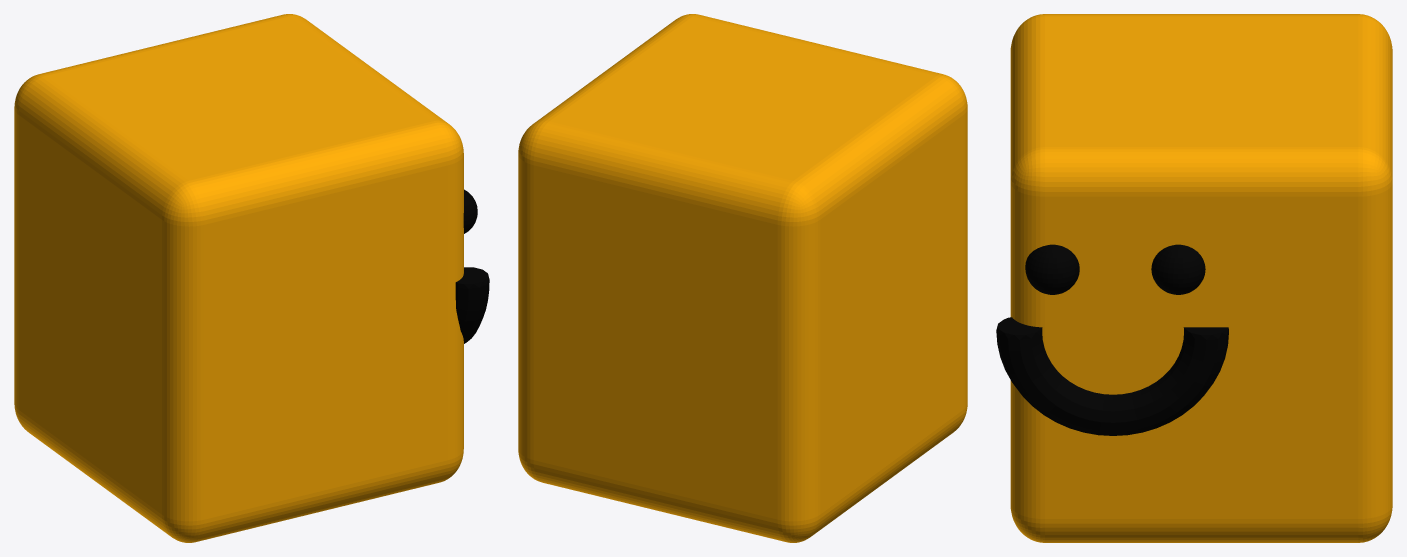
File: Chracter_LightOrange.glb
3 views of the same model, side by side, from view 1: azimuth 30°, elevation 25°; view 2: azimuth 150°, elevation 25°; view 3: azimuth 270°, elevation 25° (orthographic). The views are drawn at different scales.
Parts seen in each view (by area): view 1: Chracter_LightOrange; view 2: Chracter_LightOrange; view 3: Chracter_LightOrange.
Part boxes in pixels (x1,y1,x2,y2): Chracter_LightOrange: (14,14,489,542); Chracter_LightOrange: (518,14,967,542); Chracter_LightOrange: (996,14,1392,542).
Bounding box in the file's own units: 1.84 × 2 × 1.83.
